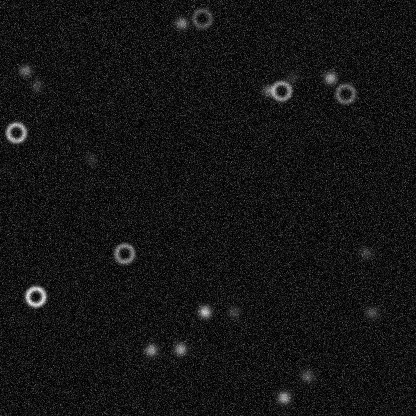Ring: (333, 81, 357, 105), (23, 284, 47, 308), (3, 120, 27, 144), (269, 78, 293, 102), (189, 6, 213, 30), (112, 241, 136, 265)
Spot: (172, 340, 188, 356), (225, 304, 241, 320), (143, 342, 159, 358), (173, 15, 189, 31), (17, 62, 33, 78), (283, 68, 299, 84), (83, 150, 99, 166), (28, 77, 44, 93), (363, 304, 379, 320), (322, 69, 338, 85), (298, 367, 314, 383), (196, 303, 212, 319), (260, 82, 276, 98), (357, 244, 373, 260), (275, 389, 291, 405)
